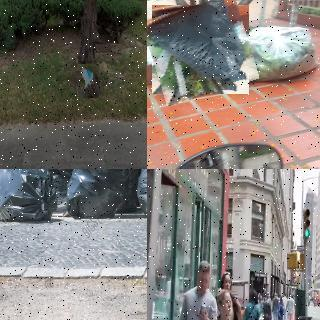Garbage: (147, 0, 254, 100), (230, 25, 320, 80), (64, 169, 130, 219), (0, 169, 60, 223), (29, 169, 84, 203), (75, 63, 101, 99), (147, 41, 170, 66)
